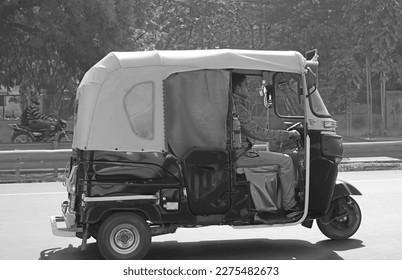keke: (56, 46, 368, 256)
